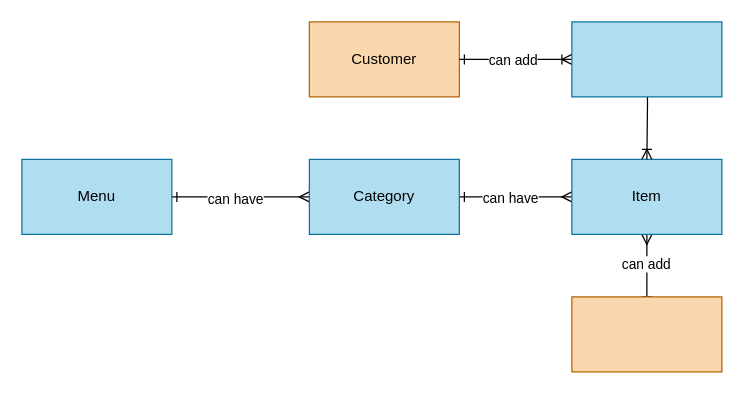
Some shapes in this 744 by 394 pixel diagram are drawn without their labels. The box of each missing label's shape, as (x1, y1, x2, y2) in pixels:
Order: (571, 21, 722, 97)
Owner: (571, 296, 722, 372)
